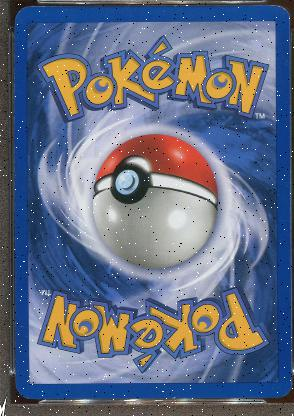Card: (10, 2, 292, 404)
Corner Wear: (275, 5, 291, 20), (13, 6, 20, 20)
Edge Wear: (13, 29, 14, 135), (13, 145, 14, 201), (172, 4, 180, 8), (169, 396, 177, 399)
Scratch: (18, 324, 24, 328)
